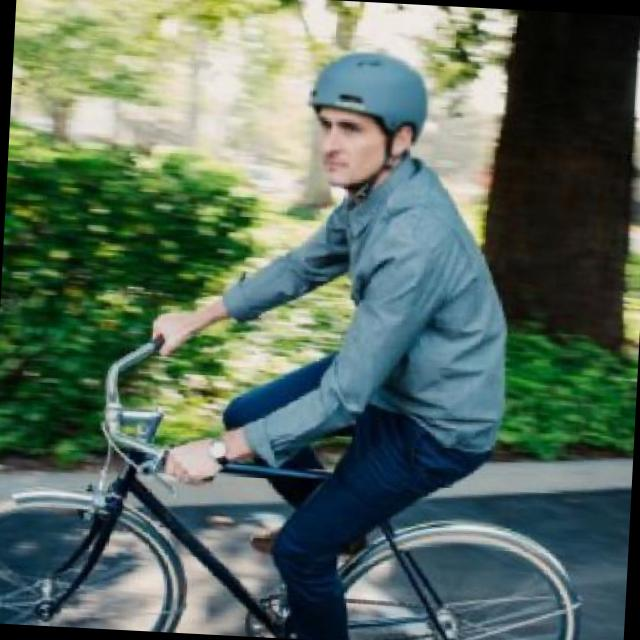With Helmet: (299, 44, 434, 188)
